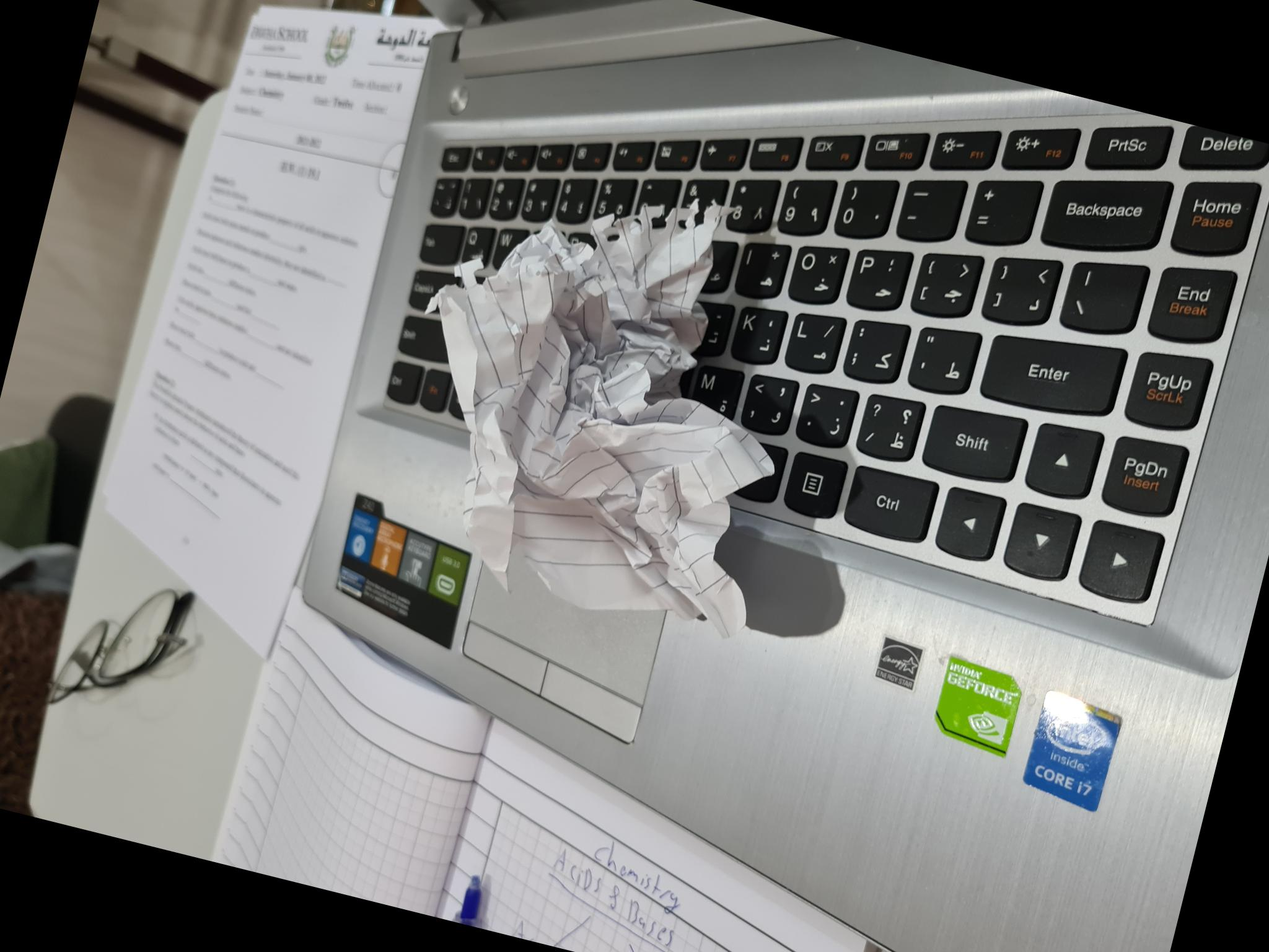Kertas: (277, 378, 728, 720)
